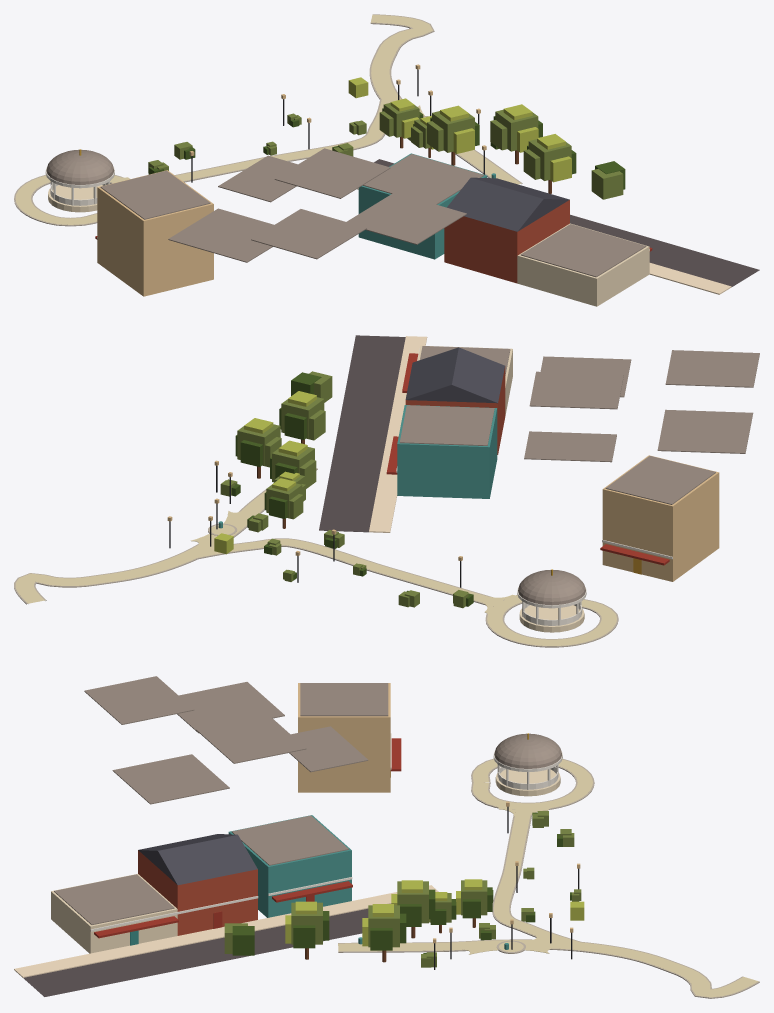
File: chunk_-1_0.glb
3 views of the same model, one above another, from view 1: azimuth 30°, elevation 25°; view 2: azimuth 150°, elevation 25°; view 3: azimuth 270°, elevation 25° (orthographic).
Visible parts, largest first — view 1: chunk_-1_0__building, chunk_-1_0__ground, chunk_-1_0__tree, chunk_-1_0__feat_bandstand, chunk_-1_0__lamp; view 2: chunk_-1_0__building, chunk_-1_0__ground, chunk_-1_0__tree, chunk_-1_0__feat_bandstand, chunk_-1_0__lamp; view 3: chunk_-1_0__building, chunk_-1_0__ground, chunk_-1_0__tree, chunk_-1_0__feat_bandstand, chunk_-1_0__lamp.
Part boxes in pixels (x1,y1,x2,y2): chunk_-1_0__building: (95, 148, 652, 306); chunk_-1_0__ground: (14, 14, 759, 294); chunk_-1_0__tree: (148, 77, 625, 199); chunk_-1_0__feat_bandstand: (45, 149, 114, 212); chunk_-1_0__lamp: (189, 64, 486, 182); chunk_-1_0__building: (386, 345, 759, 581); chunk_-1_0__ground: (14, 335, 618, 647); chunk_-1_0__tree: (214, 371, 473, 608); chunk_-1_0__feat_bandstand: (517, 569, 586, 632); chunk_-1_0__lamp: (167, 460, 462, 587); chunk_-1_0__building: (51, 676, 401, 953); chunk_-1_0__ground: (14, 758, 759, 998); chunk_-1_0__tree: (224, 811, 584, 967); chunk_-1_0__feat_bandstand: (493, 733, 562, 796); chunk_-1_0__lamp: (433, 801, 580, 969).
Size of the model in its own units: 74.63 by 14.32 by 96.66.
